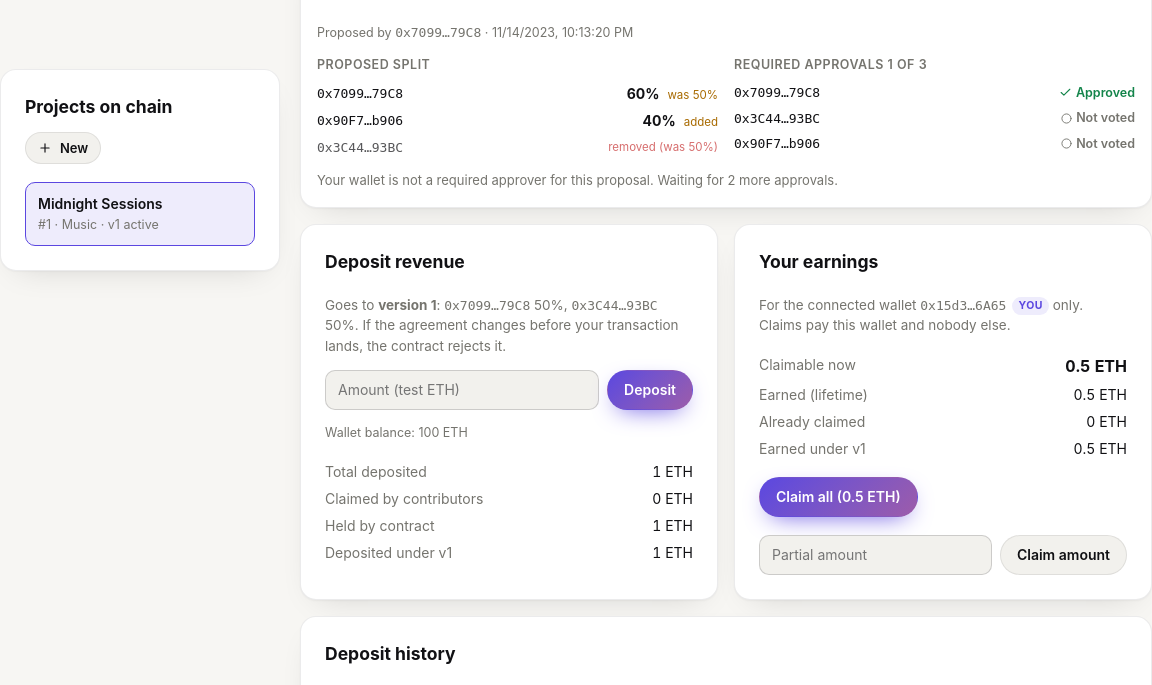
Scenario: live dashboard: revenue › deposits against the active agreement version
The width and height of the screenshot is (1152, 685).
(page scrolled)
Type "0.25" into the field named "deposit amount" at (462,390), box [325, 370, 599, 410]
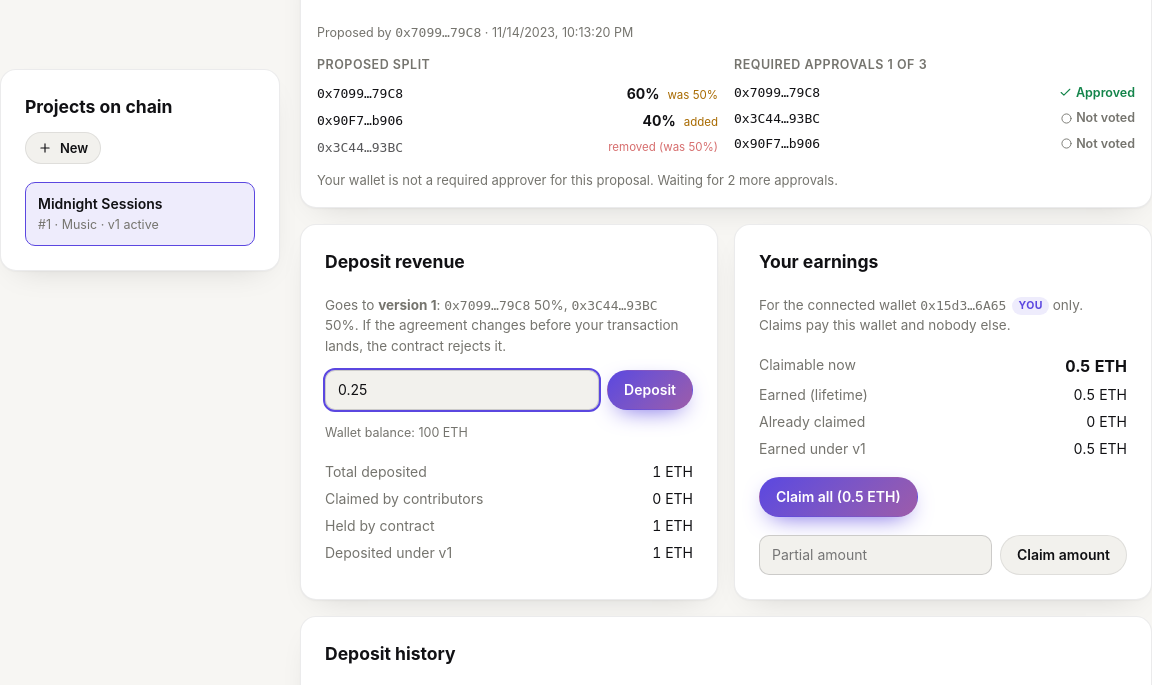
Click the button "Deposit" at (650,390), box [607, 370, 693, 410]
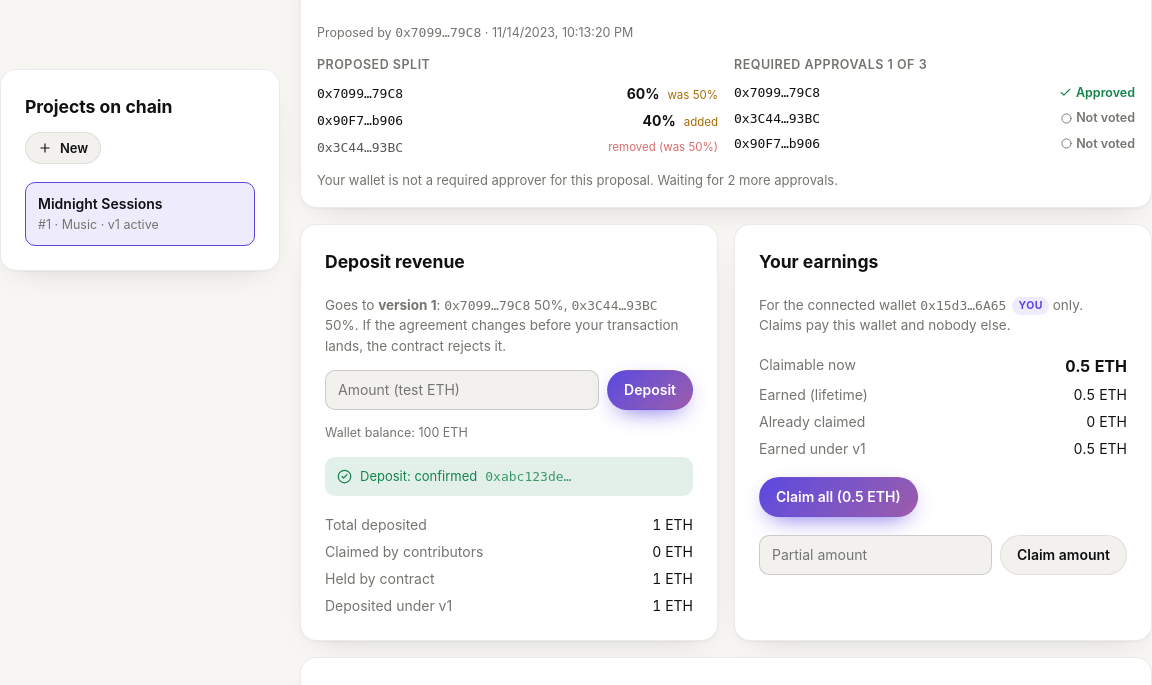
Expected: the text "Deposit: confirmed 0xabc123de…" is shown, [325, 457, 693, 496]
